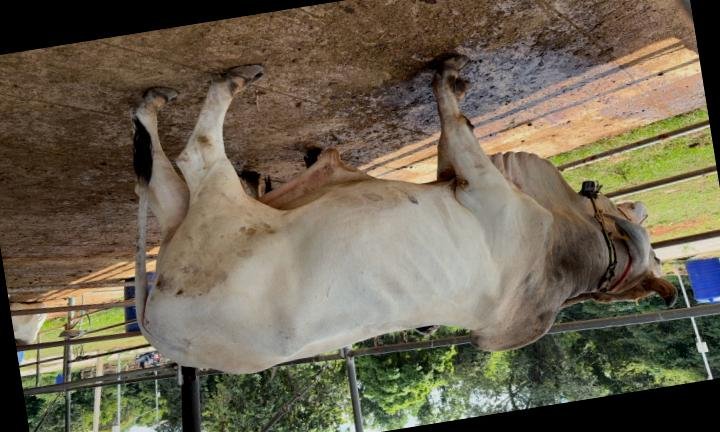Brahman: (130, 56, 677, 373), (131, 56, 676, 373)
